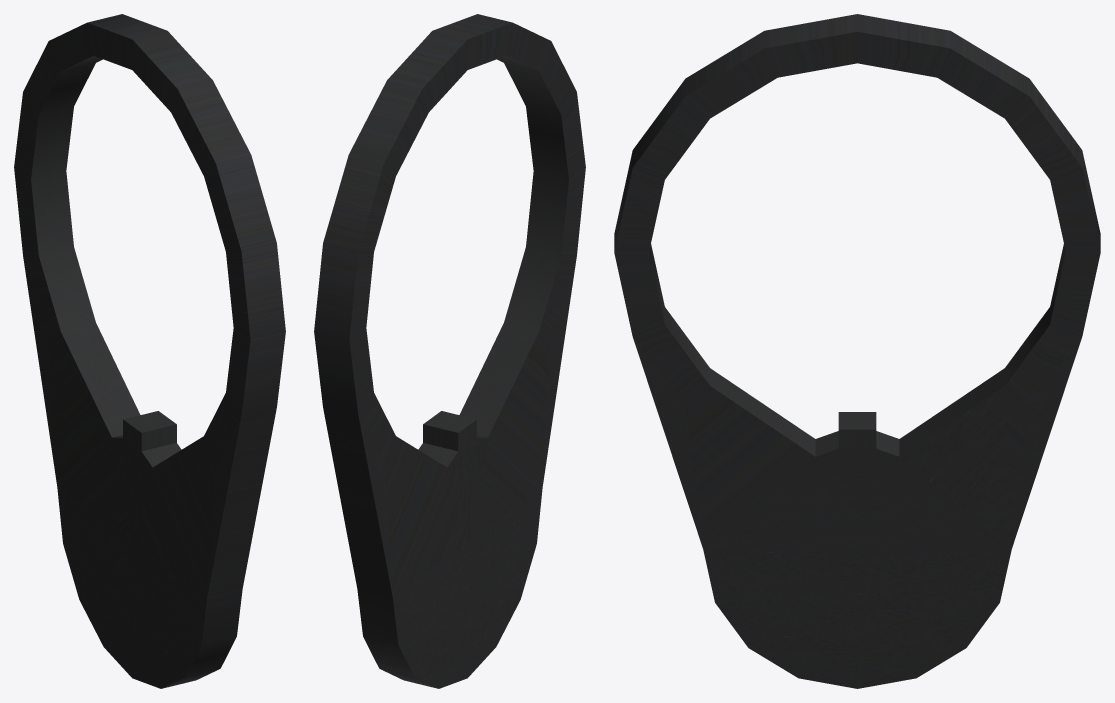
The model's file is Receiver_End_Plate.dae.
3 views of the same model, side by side, from view 1: azimuth 30°, elevation 25°; view 2: azimuth 150°, elevation 25°; view 3: azimuth 270°, elevation 25° (orthographic). The views are drawn at different scales.
Visible parts, largest first — view 1: Receiver_End_Plate; view 2: Receiver_End_Plate; view 3: Receiver_End_Plate.
Part boxes in pixels (bbox=[...]): Receiver_End_Plate: bbox=[14, 14, 285, 688]; Receiver_End_Plate: bbox=[314, 14, 585, 688]; Receiver_End_Plate: bbox=[614, 14, 1100, 688].
Bounding box in the file's own units: 0.00297 × 0.0344 × 0.0513.
Materials: 1 (1 with a texture image).
